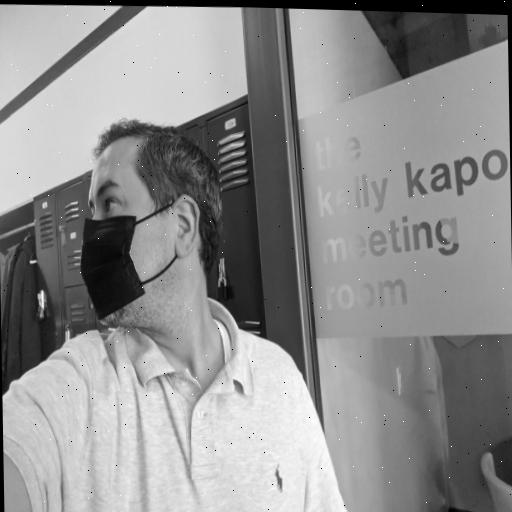mask: (76, 146, 189, 328)
